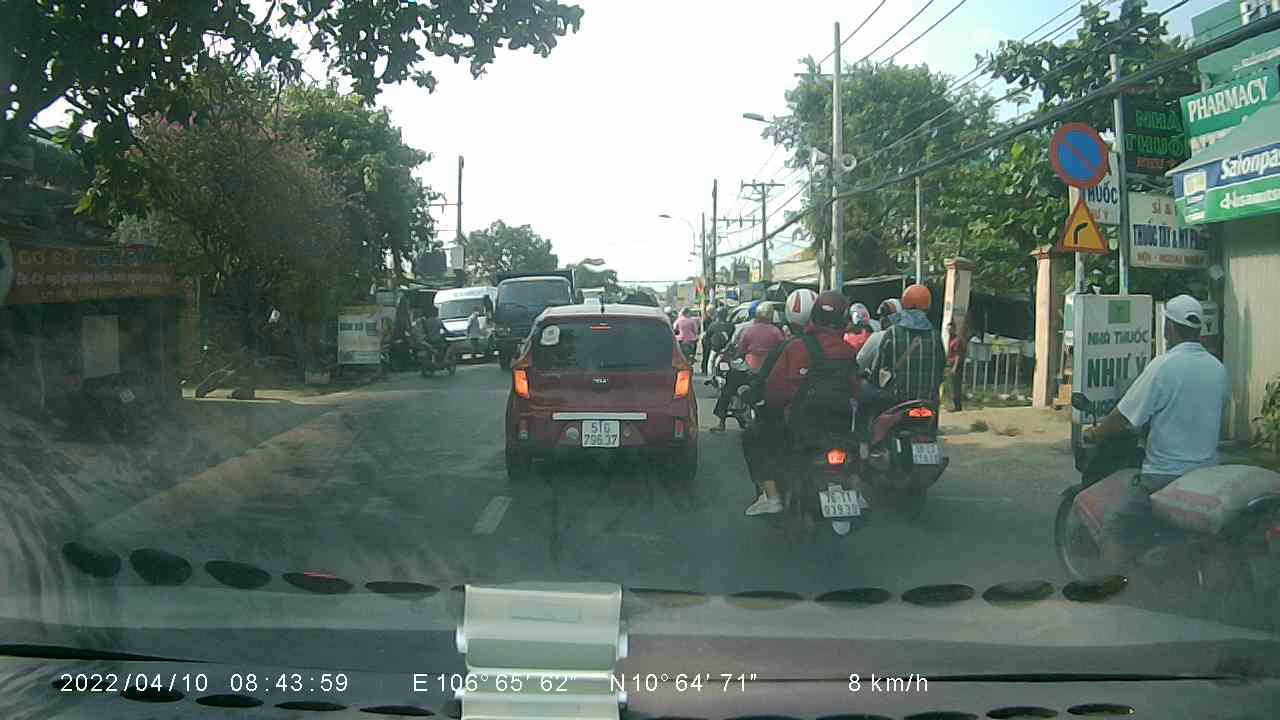Bien khac: (1051, 191, 1116, 253)
Cam do xe: (1046, 117, 1110, 191)
